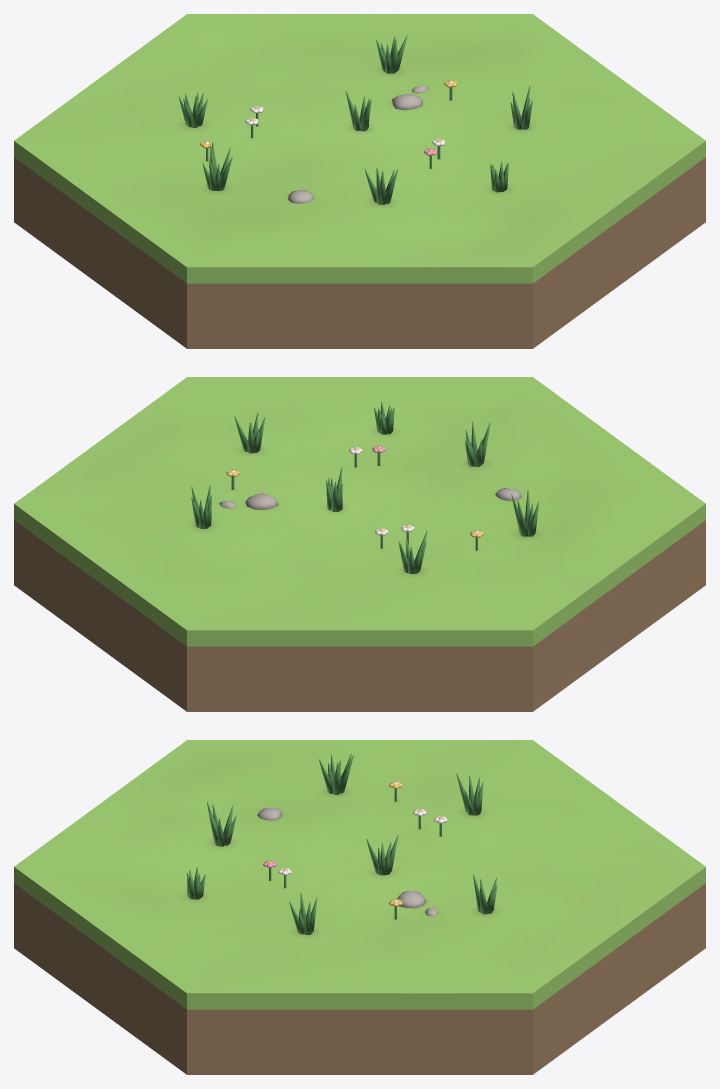
Rendered from habitat-terrain.glb.
3 renders of one model, top to bottom at view 1: azimuth 30°, elevation 25°; view 2: azimuth 150°, elevation 25°; view 3: azimuth 270°, elevation 25°, orthographic.
Parts seen in each view (by area): view 1: hex-tile-grass_body; view 2: hex-tile-grass_body; view 3: hex-tile-grass_body.
Boxes of the visible parts, left/top/right/bottom form: hex-tile-grass_body: left=14, top=14, right=705, bottom=348; hex-tile-grass_body: left=14, top=377, right=705, bottom=711; hex-tile-grass_body: left=14, top=740, right=705, bottom=1074.
Size of the model in its own units: 2 by 0.4426 by 2.31.
Materials: 1 (1 with a texture image).
